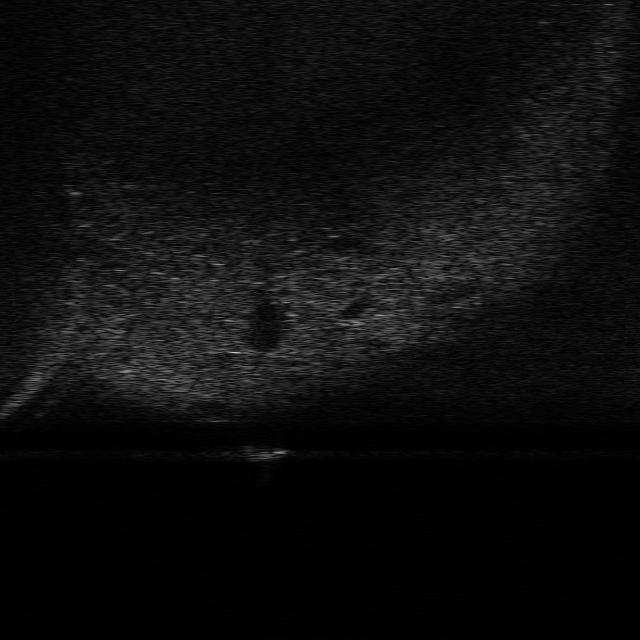cube: (221, 445, 294, 463)
